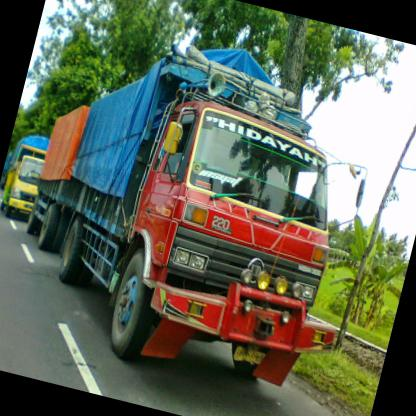truck: (103, 82, 364, 400)
